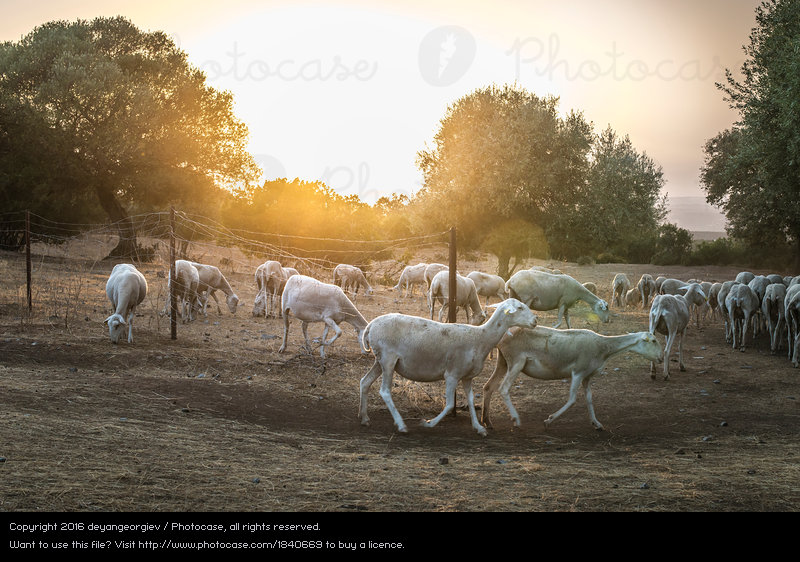sheep: (354, 301, 519, 454), (505, 320, 643, 459), (504, 268, 636, 364), (284, 276, 357, 356), (648, 288, 699, 380), (423, 278, 493, 345), (721, 282, 777, 363), (98, 270, 153, 340), (176, 253, 225, 320), (607, 275, 673, 316), (248, 261, 293, 318), (681, 279, 723, 328), (327, 265, 368, 301), (408, 258, 446, 295), (667, 272, 703, 311)
